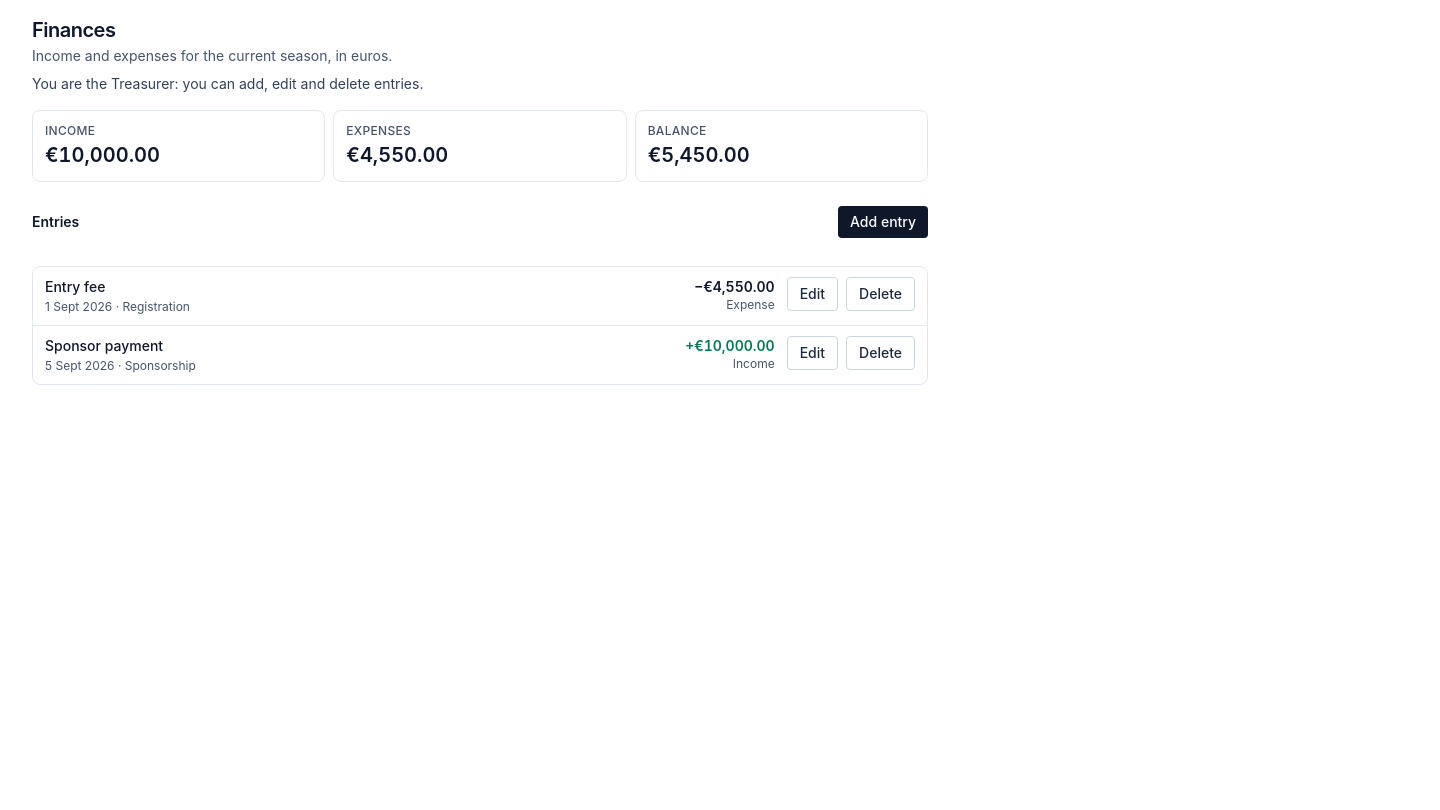
Test: the Treasurer › an edit the database silently refuses is reported, not shown as saved
Click the button with aria-label "Edit Entry fee": [812, 294] box [787,277,838,311]
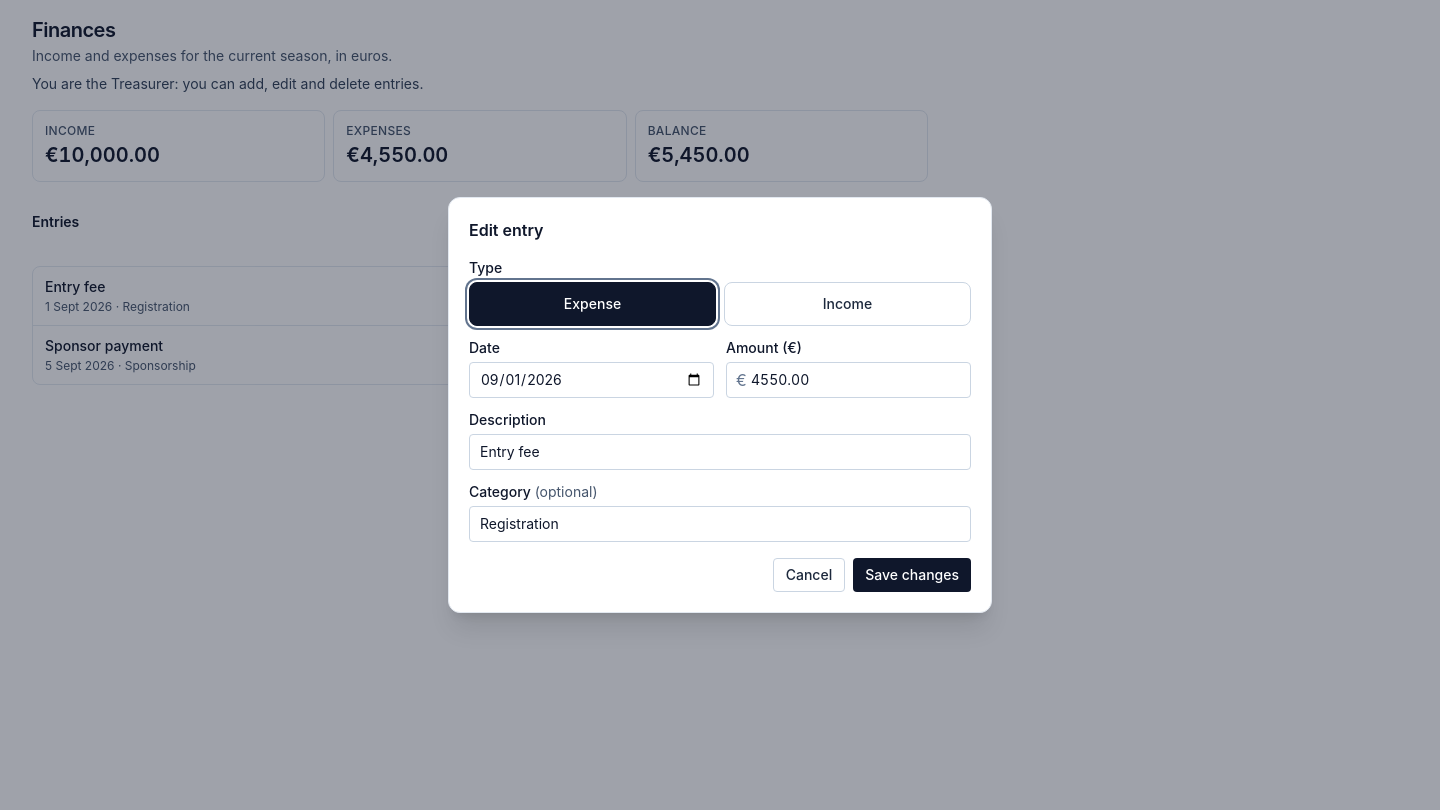
Click the button "Save changes": [912, 575] box [853,558,971,592]
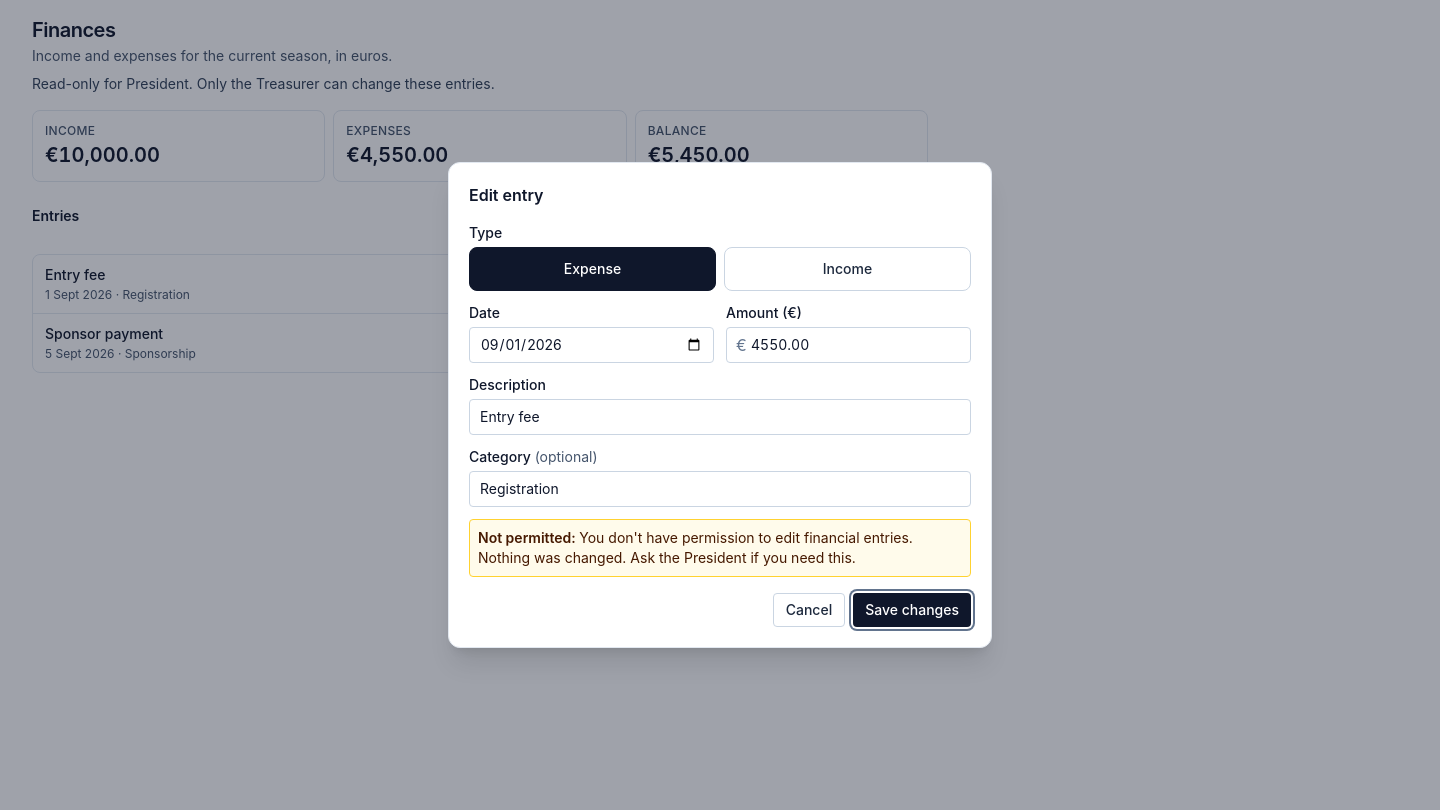
Expected: the message that starts with "Not permitted:" shows "You don't have permission to edit financial entries", [478,529,913,566]
